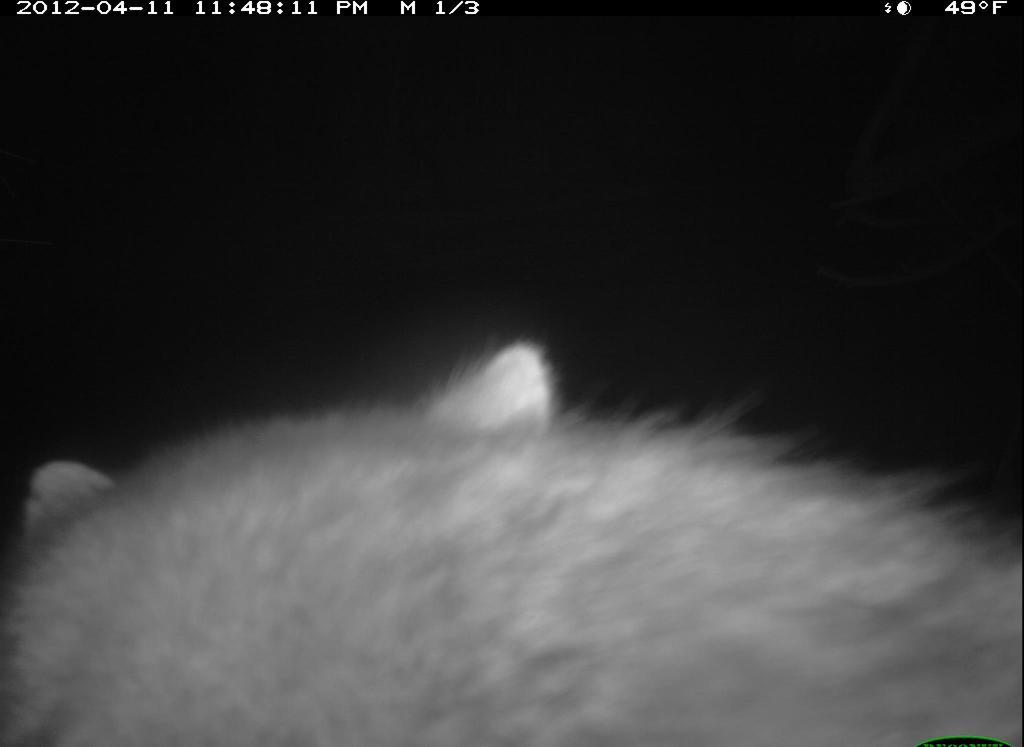raccoon: (6, 321, 1023, 747)
